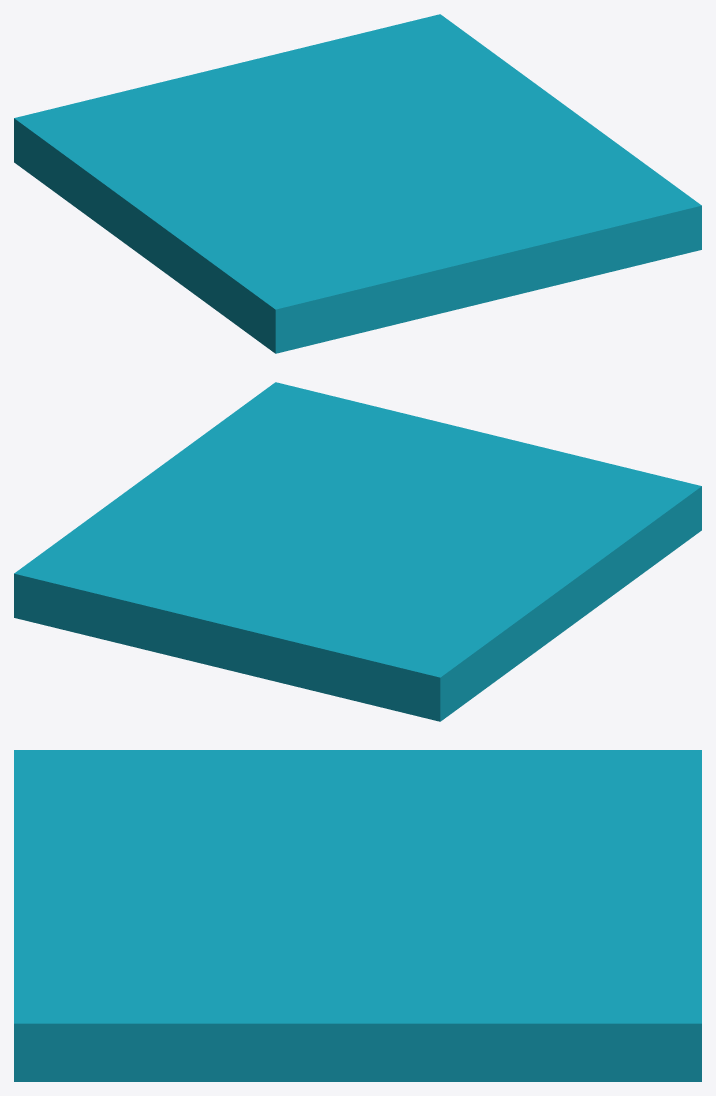
File: spasm_default.fbx
3 views of the same model, one above another, from view 1: azimuth 30°, elevation 25°; view 2: azimuth 150°, elevation 25°; view 3: azimuth 270°, elevation 25° (orthographic). The views are drawn at different scales.
Parts seen in each view (by area): view 1: autogenerated_structure; view 2: autogenerated_structure; view 3: autogenerated_structure.
Part boxes in pixels (<box>): autogenerated_structure: <box>14,14,701,353</box>; autogenerated_structure: <box>14,382,701,721</box>; autogenerated_structure: <box>14,750,701,1081</box>.
Bounding box in the file's own units: 49665 × 46736 × 4631.
